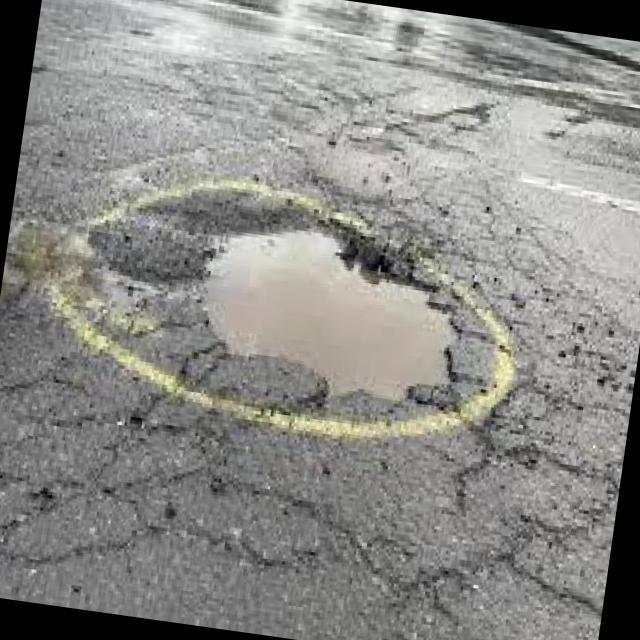Pothole: (161, 228, 512, 437)
